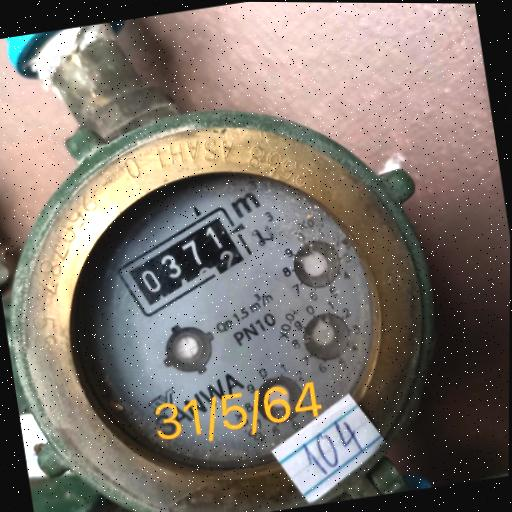0: (127, 254, 174, 307)
1: (192, 213, 245, 275)
3: (149, 241, 196, 293)
7: (170, 228, 217, 280)
border_water_meter_number: (107, 199, 261, 324)
